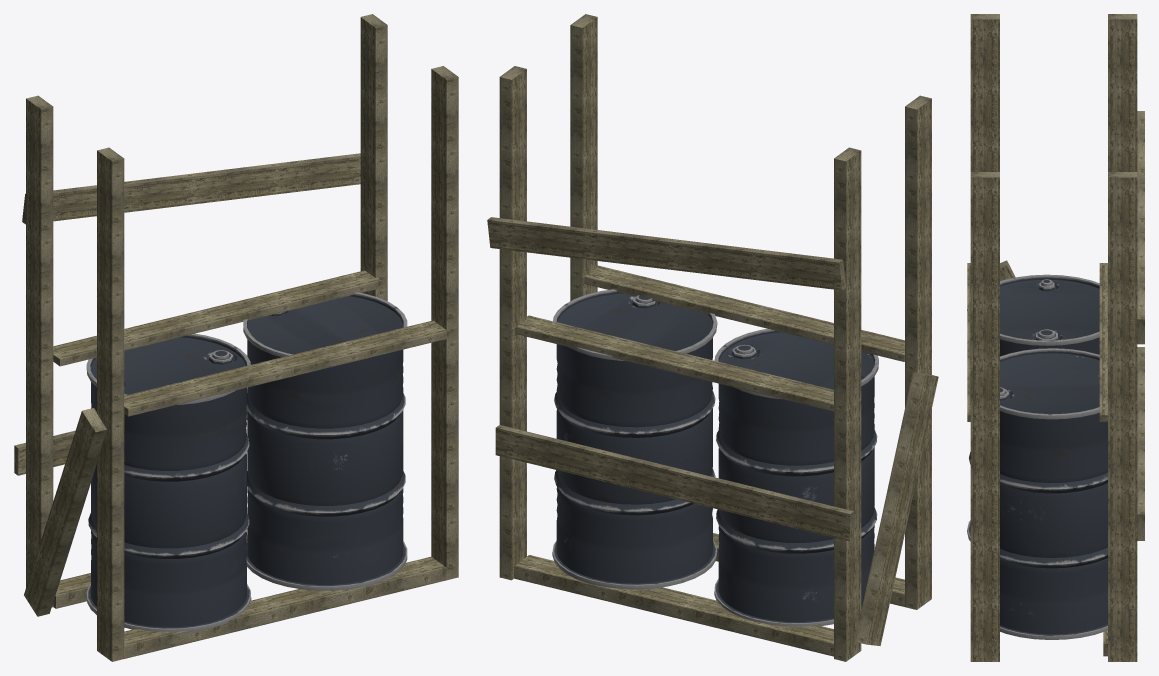
File: barreldump.fbx
The picture shows the model from 3 angles, left to right: view 1: azimuth 30°, elevation 25°; view 2: azimuth 150°, elevation 25°; view 3: azimuth 270°, elevation 25°; orthographic projection. The views are drawn at different scales.
Visible parts, largest first — view 1: Barrels_Dump_Bootcamp; view 2: Barrels_Dump_Bootcamp; view 3: Barrels_Dump_Bootcamp.
Part boxes in pixels (x1,y1,x2,y2): Barrels_Dump_Bootcamp: (14,14,458,661); Barrels_Dump_Bootcamp: (487,14,938,661); Barrels_Dump_Bootcamp: (967,14,1144,661).
Bounding box in the file's own units: 154 × 201 × 66.92.
